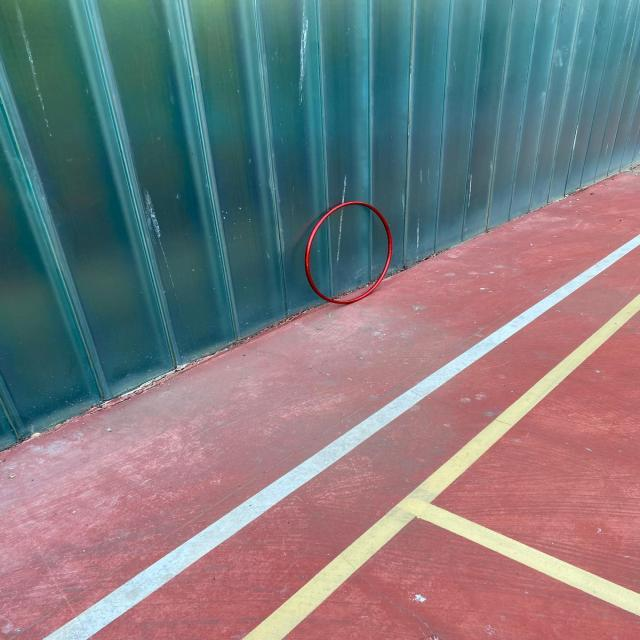Circle: (304, 200, 392, 306)
